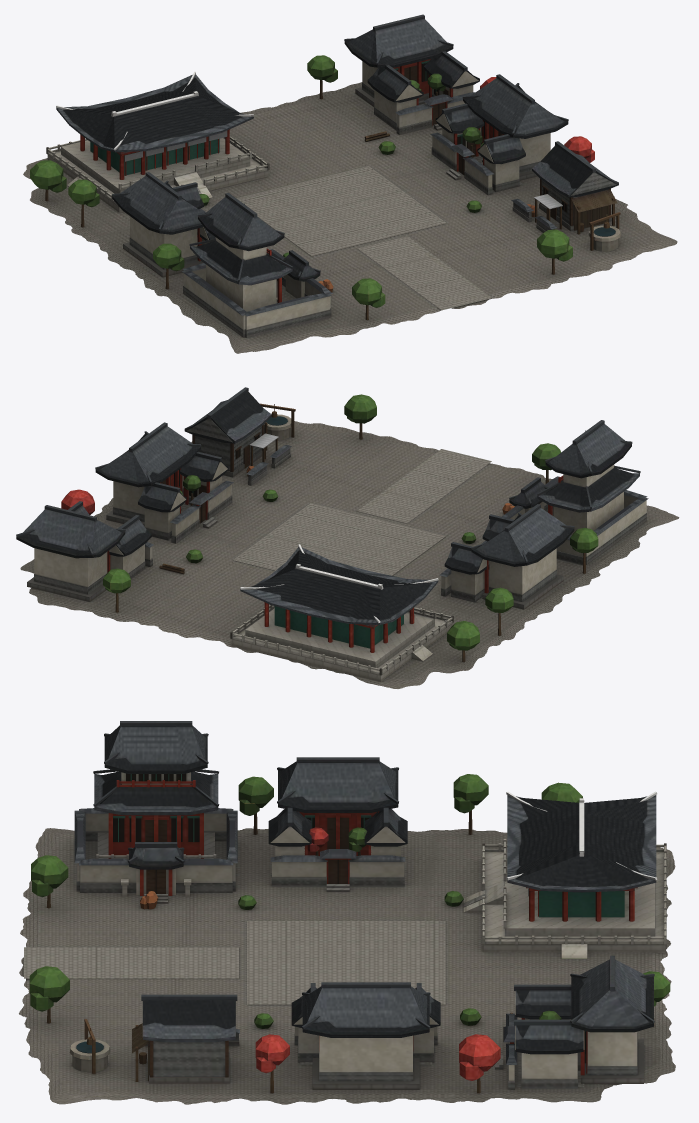
File: kingdoms-town-small-a-korea.glb
The picture shows the model from 3 angles, top to bottom: view 1: azimuth 30°, elevation 25°; view 2: azimuth 150°, elevation 25°; view 3: azimuth 270°, elevation 25°; orthographic projection. The views are drawn at different scales.
Parts seen in each view (by area): view 1: LOD0; view 2: LOD0; view 3: LOD0.
Part boxes in pixels (x1,y1,x2,y2): LOD0: [23, 14, 677, 353]; LOD0: [16, 387, 679, 688]; LOD0: [19, 721, 675, 1104].
Size of what is drawn, in the model's own units: 4.02 by 0.9214 by 4.06.
3 materials, 3 textured.
